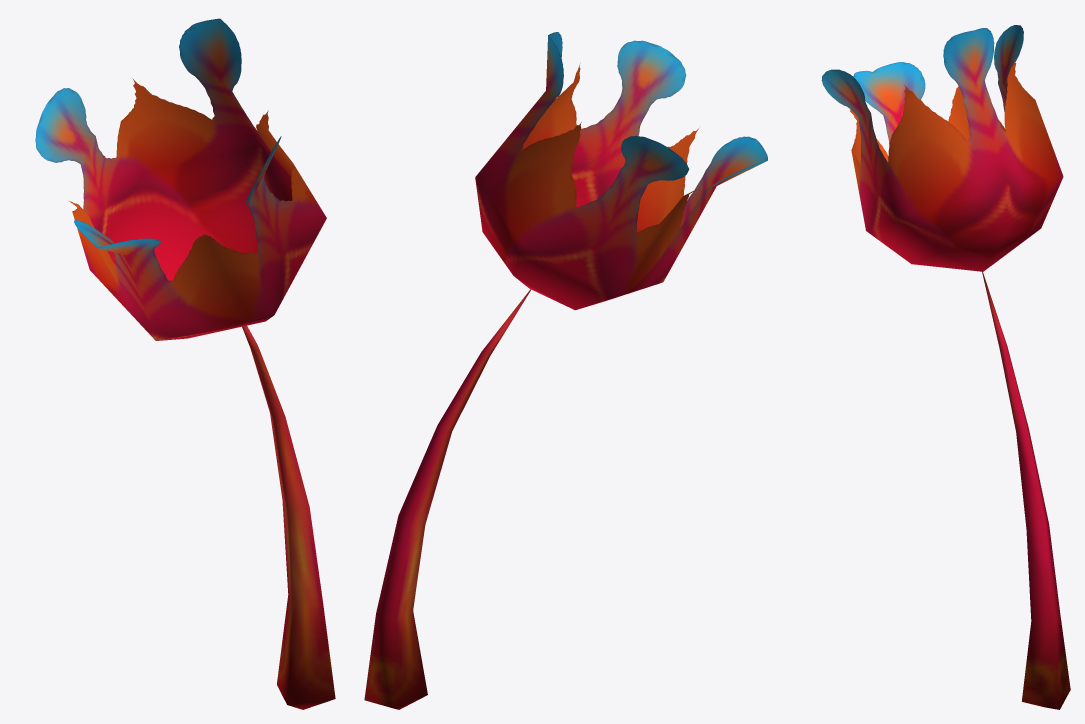
Rendered from Red_Flower_03b.FBX.
3 renders of one model, left to right at view 1: azimuth 30°, elevation 25°; view 2: azimuth 150°, elevation 25°; view 3: azimuth 270°, elevation 25°, orthographic. The views are drawn at different scales.
Parts seen in each view (by area): view 1: Red_Flower_03b; view 2: Red_Flower_03b; view 3: Red_Flower_03b.
Part boxes in pixels (box(x1,y1,x2,y2)): Red_Flower_03b: box(35, 18, 335, 709); Red_Flower_03b: box(364, 32, 767, 709); Red_Flower_03b: box(821, 25, 1070, 709).
Size of the model in its own units: 35.28 by 72.66 by 27.96.
